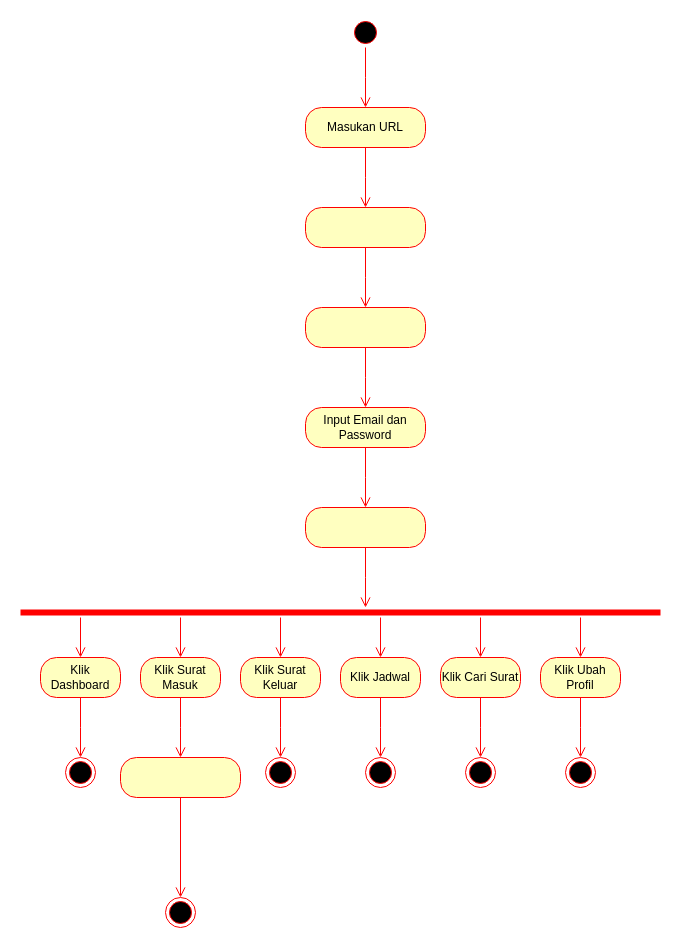
Some shapes in this 680 by 945 pixel diagram are drawn without their labels. The shapes that lost their labels are listed below. From the top down, each one's box as (x1, y1, x2, y2) in pixels, then its label:
(304, 206, 426, 248): Klik Button Login
(304, 306, 426, 348): Halaman Login
(304, 506, 426, 548): Tampil Dashboard Siswa
(120, 756, 240, 798): Klik Buat Surat
